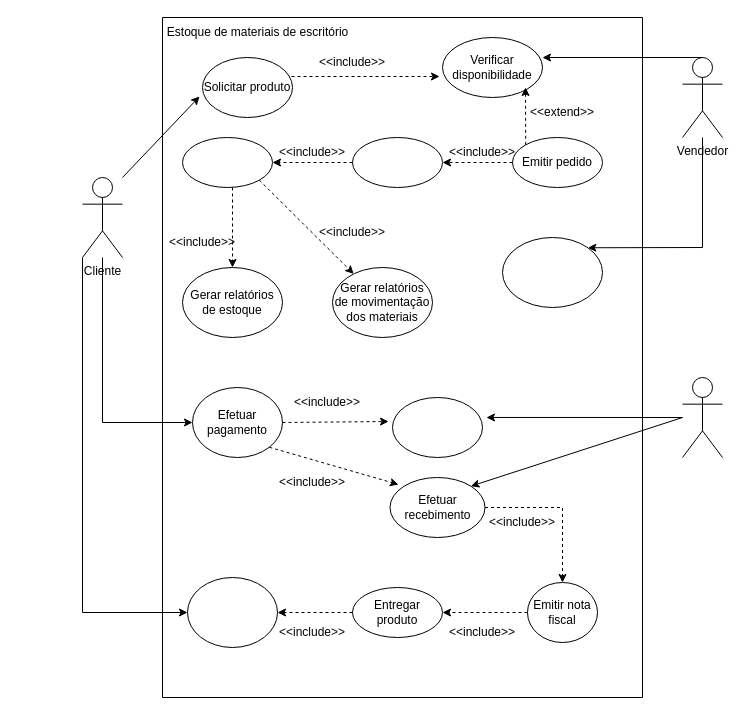
Some shapes in this 745 by 716 pixel diagram are drawn without their labels. The shapes that lost their labels are listed below. From the top down, each one's centre as x and y in pixels, then its label:
At (x=227, y=162): "Atualizar estoque".
At (x=397, y=162): "Registrar saídas de itens".
At (x=552, y=272): "Controlar validade dos produtos".
At (x=437, y=427): "Validar pedido".
At (x=702, y=417): "Caixa".
At (x=232, y=612): "Receber pedido".
